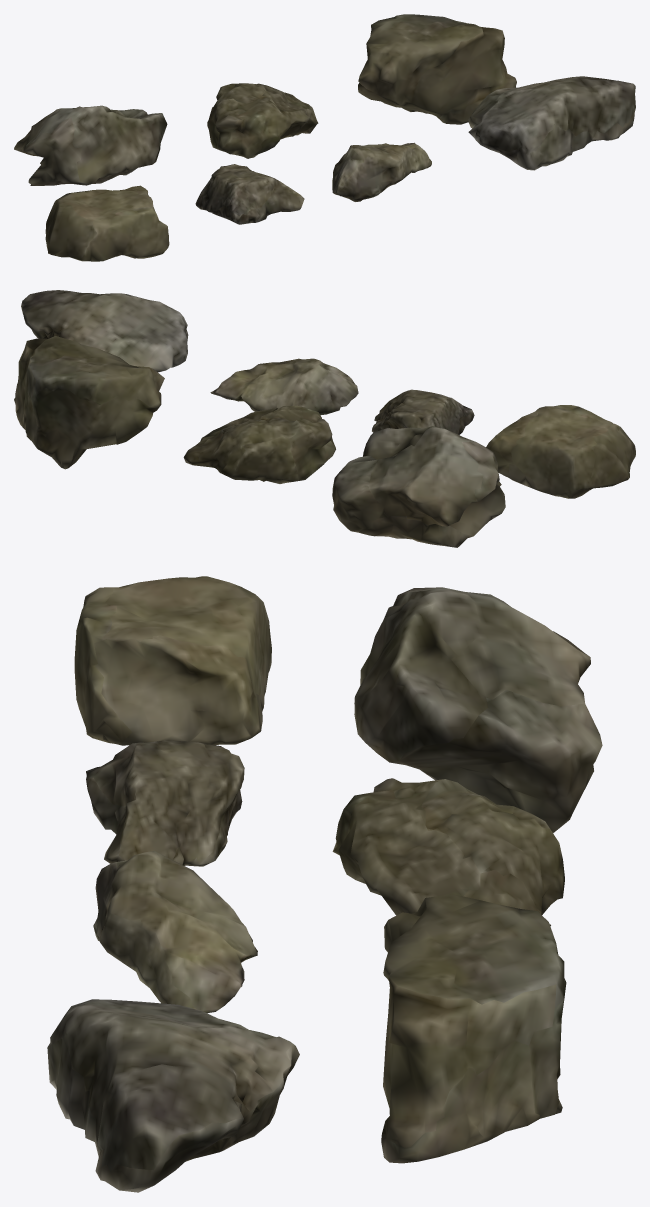
Rendered from rock_moss_set_02_lod1.glb.
The picture shows the model from 3 angles, top to bottom: view 1: azimuth 30°, elevation 25°; view 2: azimuth 150°, elevation 25°; view 3: azimuth 270°, elevation 25°; orthographic projection. The views are drawn at different scales.
Visible parts, largest first — view 1: rock_moss_set_02_rock13, rock_moss_set_02_rock10, rock_moss_set_02_rock11, rock_moss_set_02_rock07, rock_moss_set_02_rock12, rock_moss_set_02_rock08, rock_moss_set_02_rock09; view 2: rock_moss_set_02_rock11, rock_moss_set_02_rock13, rock_moss_set_02_rock07, rock_moss_set_02_rock10, rock_moss_set_02_rock12, rock_moss_set_02_rock09, rock_moss_set_02_rock08; view 3: rock_moss_set_02_rock13, rock_moss_set_02_rock11, rock_moss_set_02_rock10, rock_moss_set_02_rock07, rock_moss_set_02_rock12, rock_moss_set_02_rock09, rock_moss_set_02_rock08.
Part boxes in pixels (x1,y1,x2,y2): rock_moss_set_02_rock13: (358, 14, 516, 124); rock_moss_set_02_rock10: (468, 76, 635, 170); rock_moss_set_02_rock11: (14, 105, 167, 185); rock_moss_set_02_rock07: (45, 185, 169, 261); rock_moss_set_02_rock12: (207, 83, 318, 158); rock_moss_set_02_rock08: (195, 164, 304, 224); rock_moss_set_02_rock09: (332, 142, 431, 201); rock_moss_set_02_rock11: (332, 426, 505, 547); rock_moss_set_02_rock13: (14, 336, 164, 469); rock_moss_set_02_rock07: (486, 405, 635, 498); rock_moss_set_02_rock10: (21, 290, 188, 372); rock_moss_set_02_rock12: (183, 405, 335, 483); rock_moss_set_02_rock09: (210, 358, 358, 415); rock_moss_set_02_rock08: (372, 389, 474, 434); rock_moss_set_02_rock13: (381, 894, 566, 1163); rock_moss_set_02_rock11: (354, 587, 602, 832); rock_moss_set_02_rock10: (47, 999, 299, 1192); rock_moss_set_02_rock07: (74, 576, 271, 745); rock_moss_set_02_rock12: (332, 778, 564, 925); rock_moss_set_02_rock09: (93, 851, 257, 1013); rock_moss_set_02_rock08: (86, 740, 244, 866).
Bounding box in the file's own units: 8.28 × 1.36 × 3.41.
1 material, 1 textured.
